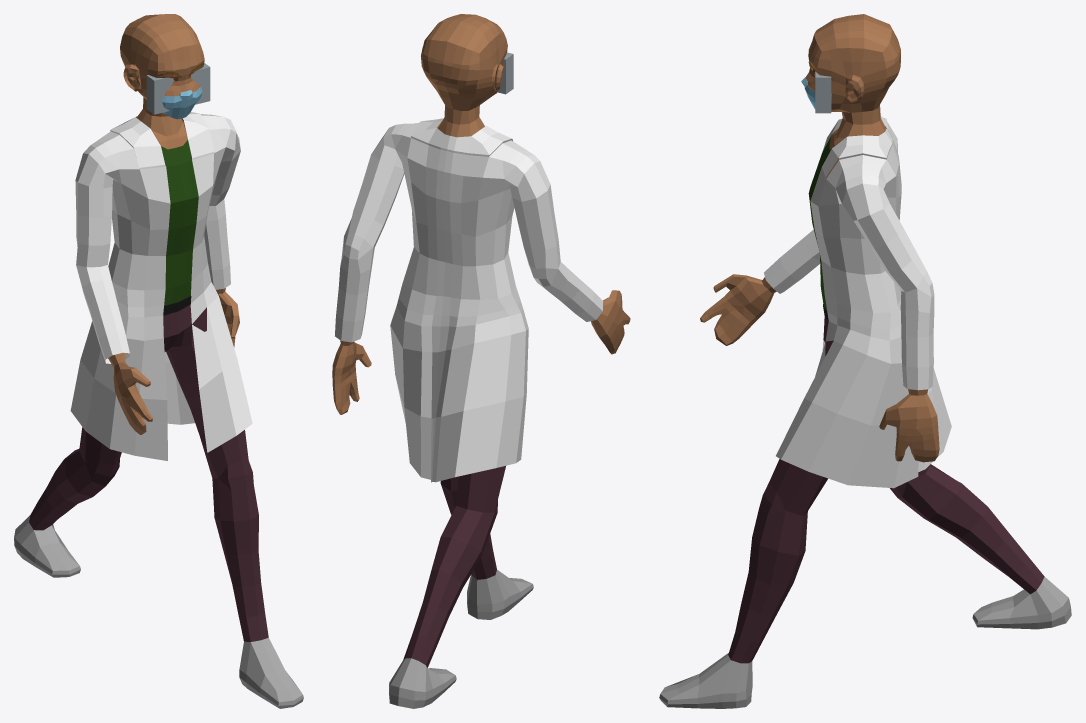
File: ScientistMale_Walk_Mask.fbx
3 renders of one model, left to right at view 1: azimuth 30°, elevation 25°; view 2: azimuth 150°, elevation 25°; view 3: azimuth 270°, elevation 25°, orthographic. The views are drawn at different scales.
Parts seen in each view (by area): view 1: ScientistMale_Walk_Mask; view 2: ScientistMale_Walk_Mask; view 3: ScientistMale_Walk_Mask.
Part boxes in pixels (<box>): ScientistMale_Walk_Mask: <box>14,14,303,708</box>; ScientistMale_Walk_Mask: <box>332,14,630,708</box>; ScientistMale_Walk_Mask: <box>659,14,1071,708</box>.
Size of the model in its own units: 0.3245 by 1.02 by 0.5758.
